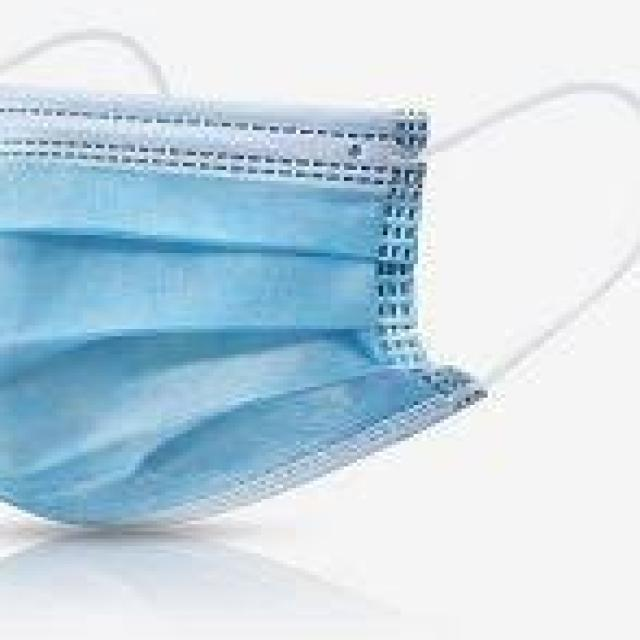organic: (10, 27, 577, 542)
